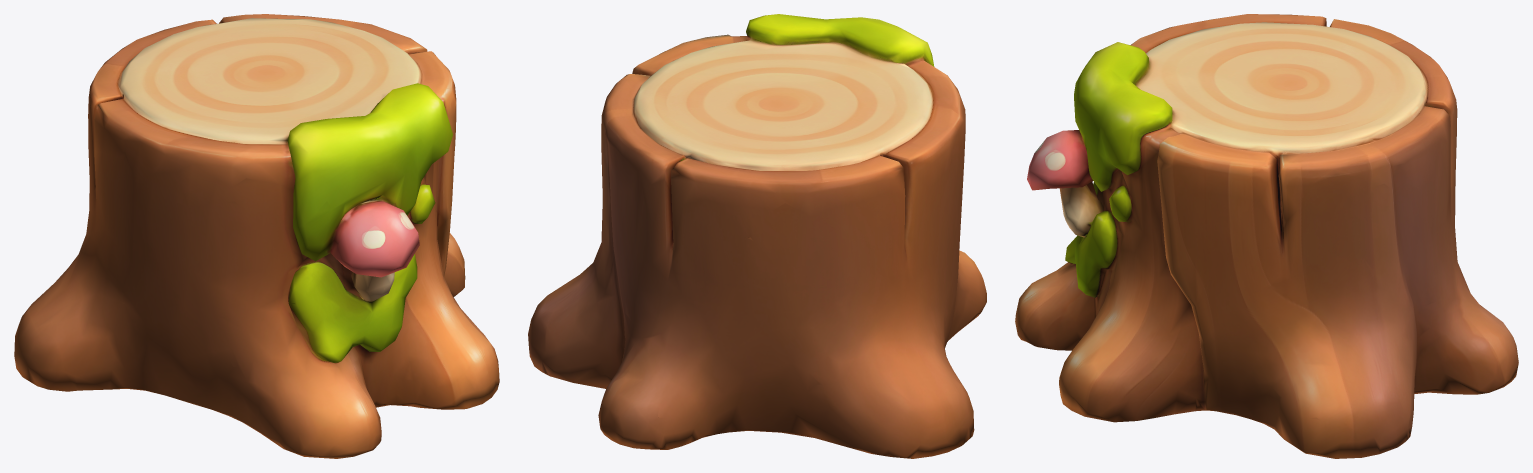
The model's file is Kit_M_Stump_raw.glb.
3 renders of one model, left to right at view 1: azimuth 30°, elevation 25°; view 2: azimuth 150°, elevation 25°; view 3: azimuth 270°, elevation 25°, orthographic.
Visible parts, largest first — view 1: tripo_node_fb298281-0a6d-477d-9c42-7563c976eb4c; view 2: tripo_node_fb298281-0a6d-477d-9c42-7563c976eb4c; view 3: tripo_node_fb298281-0a6d-477d-9c42-7563c976eb4c.
Part boxes in pixels (x1,y1,x2,y2): tripo_node_fb298281-0a6d-477d-9c42-7563c976eb4c: [14, 14, 499, 458]; tripo_node_fb298281-0a6d-477d-9c42-7563c976eb4c: [528, 14, 986, 458]; tripo_node_fb298281-0a6d-477d-9c42-7563c976eb4c: [1015, 14, 1518, 458].
Size of the model in its own units: 0.9875 by 0.6327 by 1.
Materials: 1 (1 with a texture image).
